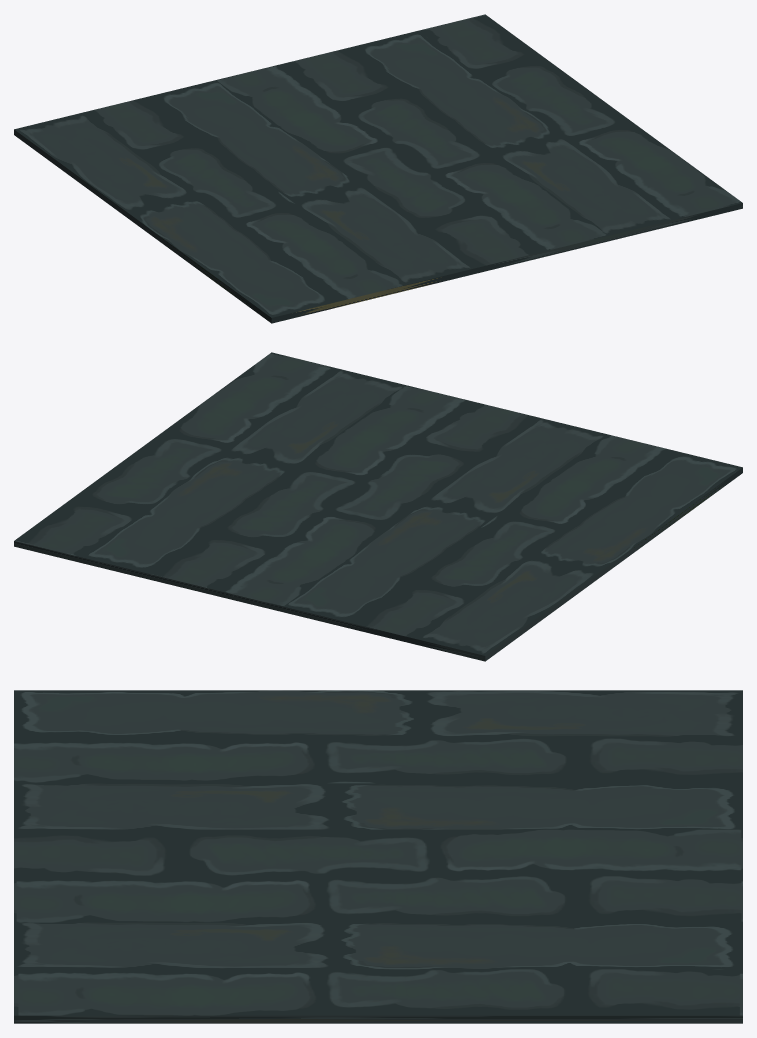
File: ceiling.fbx
The picture shows the model from 3 angles, top to bottom: view 1: azimuth 30°, elevation 25°; view 2: azimuth 150°, elevation 25°; view 3: azimuth 270°, elevation 25°; orthographic projection. The views are drawn at different scales.
Visible parts, largest first — view 1: Cube; view 2: Cube; view 3: Cube.
Boxes of the visible parts, x1,y1,x2,y2 form: Cube: [14, 14, 742, 323]; Cube: [14, 352, 742, 661]; Cube: [14, 690, 742, 1023].
Size of the model in its own units: 1392 by 16 by 1318.
1 material, 1 textured.
